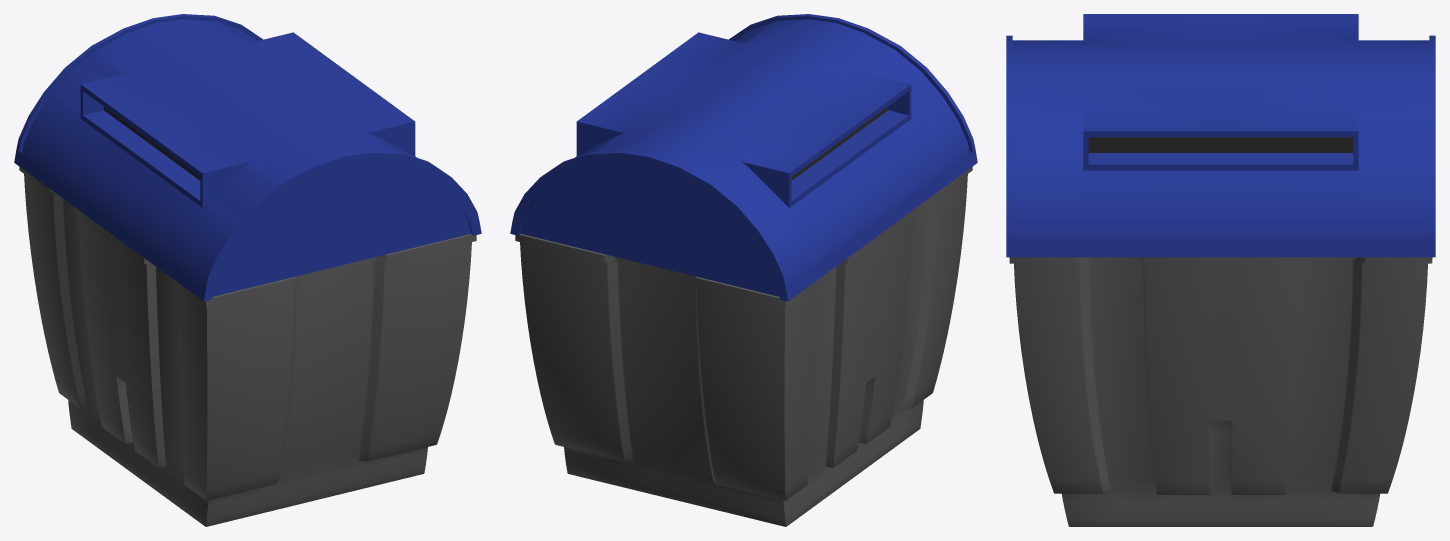
The model's file is ContenedorCarton.fbx.
The picture shows the model from 3 angles, left to right: view 1: azimuth 30°, elevation 25°; view 2: azimuth 150°, elevation 25°; view 3: azimuth 270°, elevation 25°; orthographic projection. The views are drawn at different scales.
Visible parts, largest first — view 1: TapaCarton; view 2: TapaCarton; view 3: TapaCarton.
Boxes of the visible parts, left/top/right/bottom form: TapaCarton: left=14, top=14, right=481, bottom=526; TapaCarton: left=510, top=14, right=977, bottom=526; TapaCarton: left=1006, top=14, right=1435, bottom=526.
Size of the model in its own units: 440 by 550 by 520.
